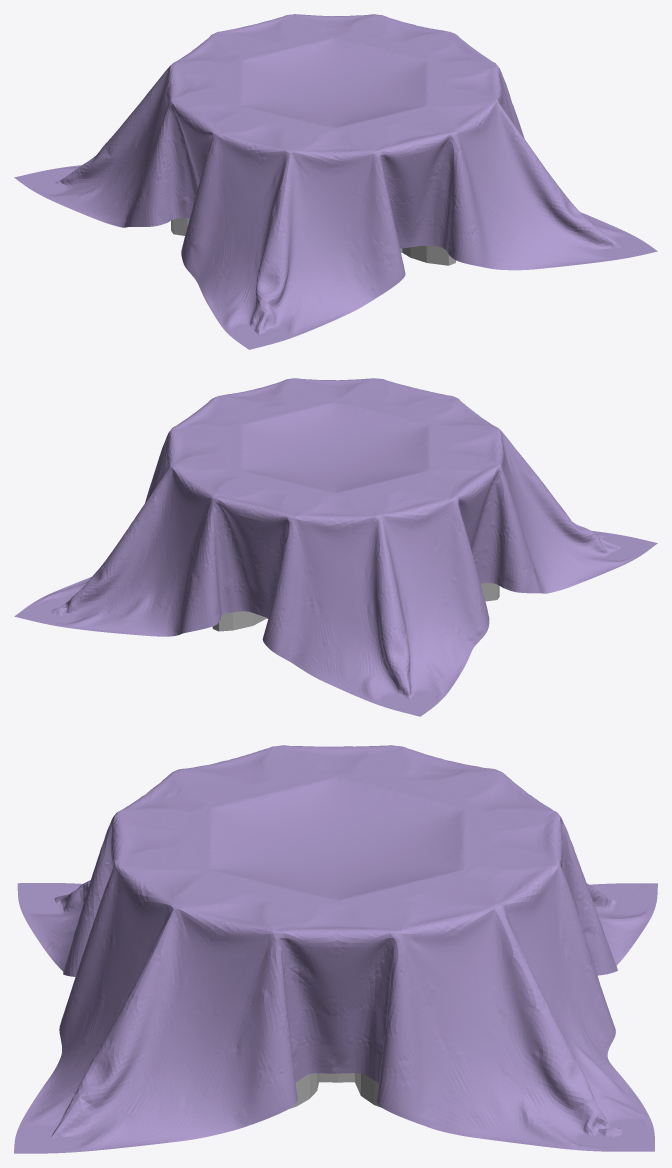
File: level_4.glb
3 renders of one model, top to bottom at view 1: azimuth 30°, elevation 25°; view 2: azimuth 150°, elevation 25°; view 3: azimuth 270°, elevation 25°, orthographic. The views are drawn at different scales.
Visible parts, largest first — view 1: world, object.obj; view 2: world, object.obj; view 3: world, object.obj.
Boxes of the visible parts, bbox=[...] form: world: bbox=[14, 14, 657, 349]; object.obj: bbox=[171, 218, 455, 265]; world: bbox=[14, 378, 657, 716]; object.obj: bbox=[212, 583, 499, 631]; world: bbox=[14, 745, 657, 1153]; object.obj: bbox=[289, 1073, 381, 1108].
Bounding box in the file's own units: 0.504 × 0.156 × 0.5066.
